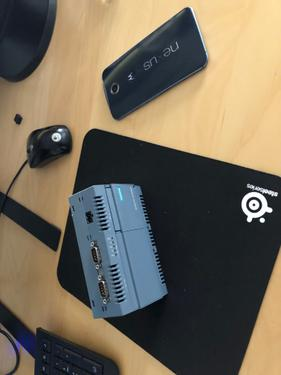device: (69, 184, 169, 319)
